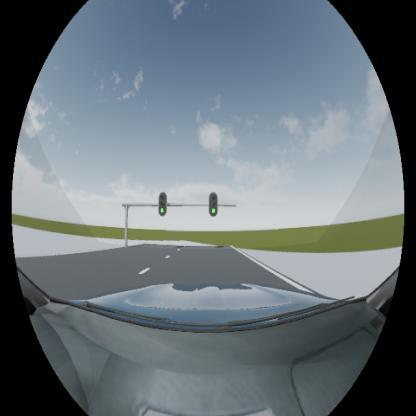Green Light: (158, 192, 168, 216), (209, 192, 218, 216)
